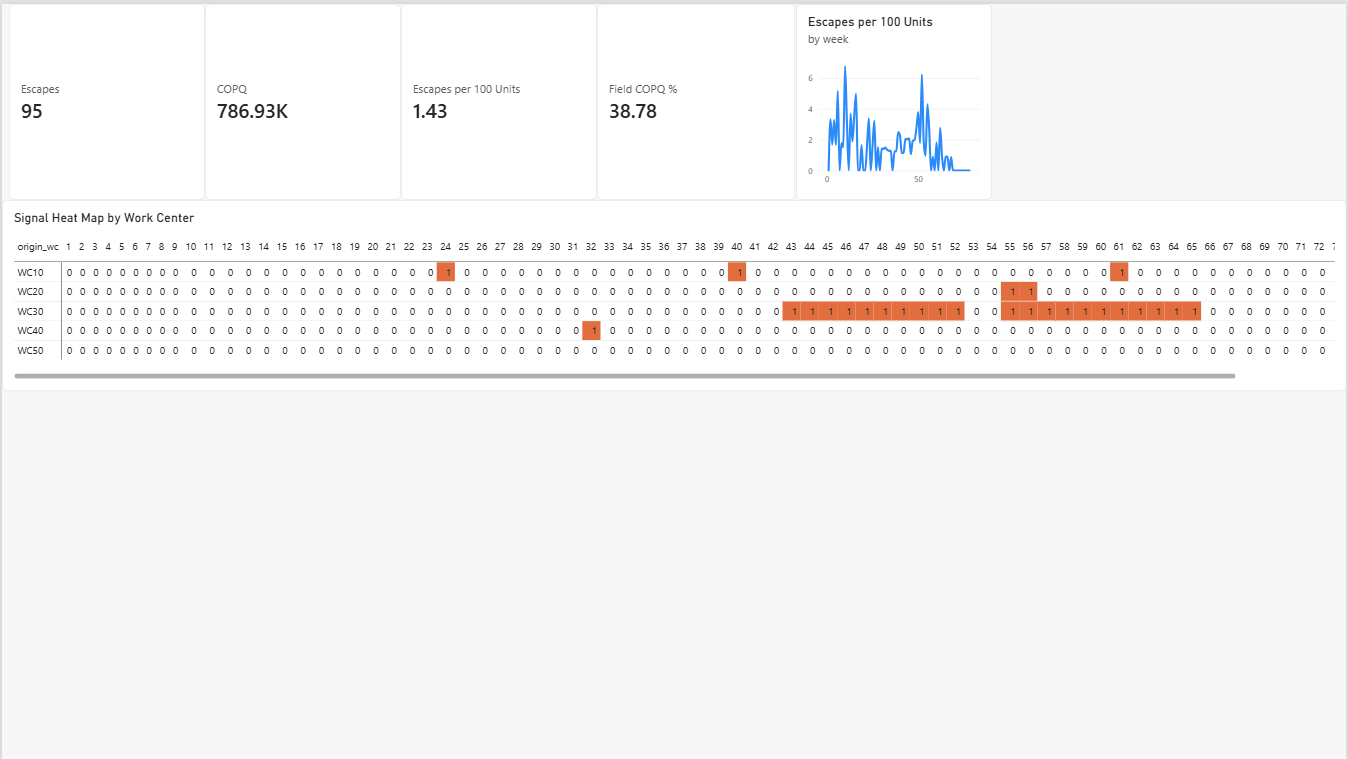

The page's visual inventory and layout, read from the dashboard file:
{"tool":"powerbi","page":{"name":"Risk Board","canvas":[1920,1080],"ordinal":0},"visuals":[{"type":"cardVisual","fields":{"Data":["nonconformances.Escapes"]},"box":[10,0,280,280],"z":0},{"type":"cardVisual","fields":{"Data":["nonconformances.COPQ"]},"box":[290.3,0,280,280],"z":1},{"type":"cardVisual","fields":{"Data":["nonconformances.Escapes per 100 Units"]},"box":[570.5,0,280,280],"z":2},{"type":"cardVisual","fields":{"Data":["nonconformances.Field COPQ %"]},"box":[850.6,0,283,280.1],"z":3},{"type":"lineChart","fields":{"Category":["weekly_production.week"],"Y":["nonconformances.Escapes per 100 Units"]},"box":[1134.5,0,280,280],"z":4},{"type":"pivotTable","title":"Signal Heat Map by Work Center","fields":{"Columns":["spc_u_chart.week"],"Rows":["spc_u_chart.origin_wc"],"Values":["Sum(spc_u_chart.signal)"]},"box":[0,280.6,1920.6,272.7],"z":5}]}

Visuals, with their boxes in screenshot pixels (x1, y1, x2, y2), scaled from the page's 1920x1080 canvas onto the 1348x759 screenshot:
cardVisual - nonconformances.Escapes: <region>7, 0, 204, 197</region>
cardVisual - nonconformances.COPQ: <region>204, 0, 400, 197</region>
cardVisual - nonconformances.Escapes per 100 Units: <region>401, 0, 597, 197</region>
cardVisual - nonconformances.Field COPQ %: <region>597, 0, 796, 197</region>
lineChart - weekly_production.week x nonconformances.Escapes per 100 Units: <region>797, 0, 993, 197</region>
"Signal Heat Map by Work Center" pivotTable: <region>0, 197, 1347, 389</region>
